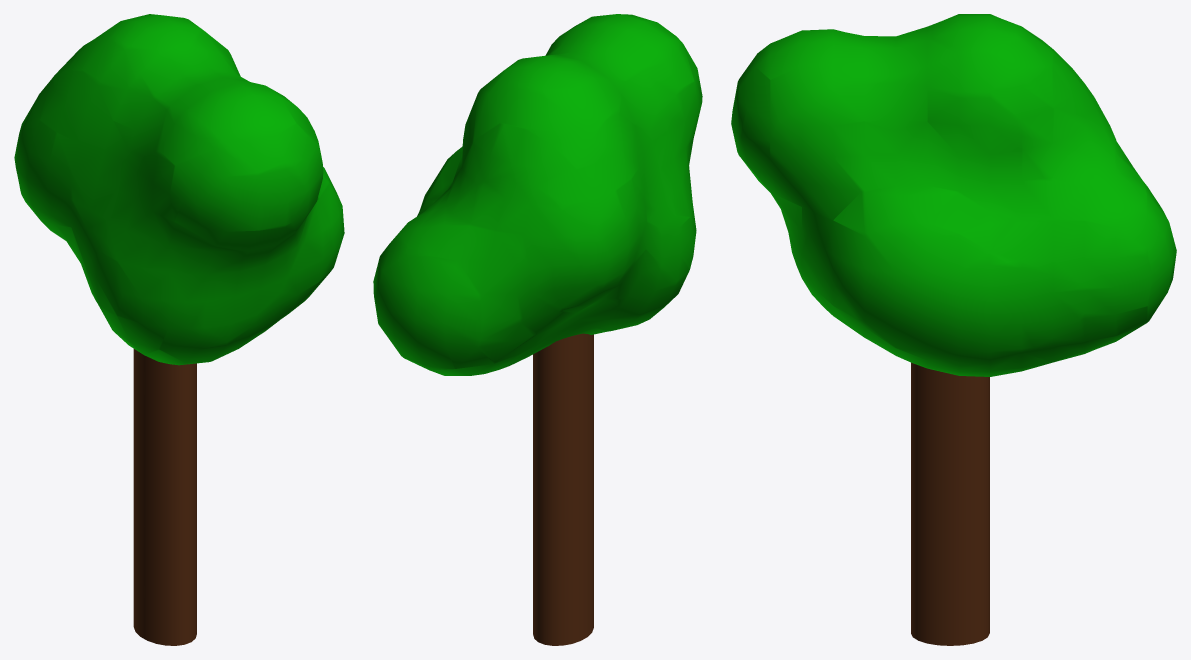
Rendered from Arbre colorisé ui.fbx.
3 views of the same model, side by side, from view 1: azimuth 30°, elevation 25°; view 2: azimuth 150°, elevation 25°; view 3: azimuth 270°, elevation 25° (orthographic). The views are drawn at different scales.
Parts seen in each view (by area): view 1: Mball.008, Cylinder; view 2: Mball.008, Cylinder; view 3: Mball.008, Cylinder.
Part boxes in pixels (x1=…): Mball.008: x1=14, y1=14, x2=344, y2=365; Cylinder: x1=133, y1=349, x2=196, y2=645; Mball.008: x1=373, y1=14, x2=702, y2=375; Cylinder: x1=533, y1=333, x2=593, y2=645; Mball.008: x1=731, y1=14, x2=1176, y2=376; Cylinder: x1=911, y1=362, x2=989, y2=645.
Bounding box in the file's own units: 468 × 1059 × 700.
